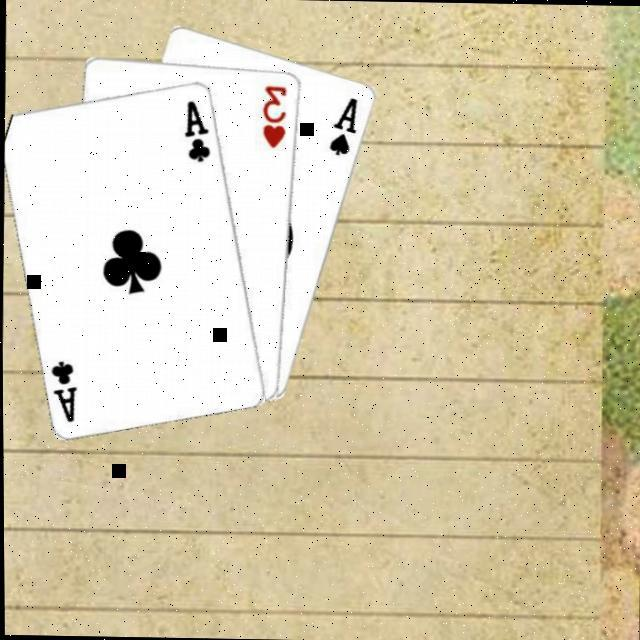3H: (261, 81, 290, 149)
AC: (183, 95, 216, 164), (49, 355, 82, 424)
AS: (328, 92, 362, 157)
